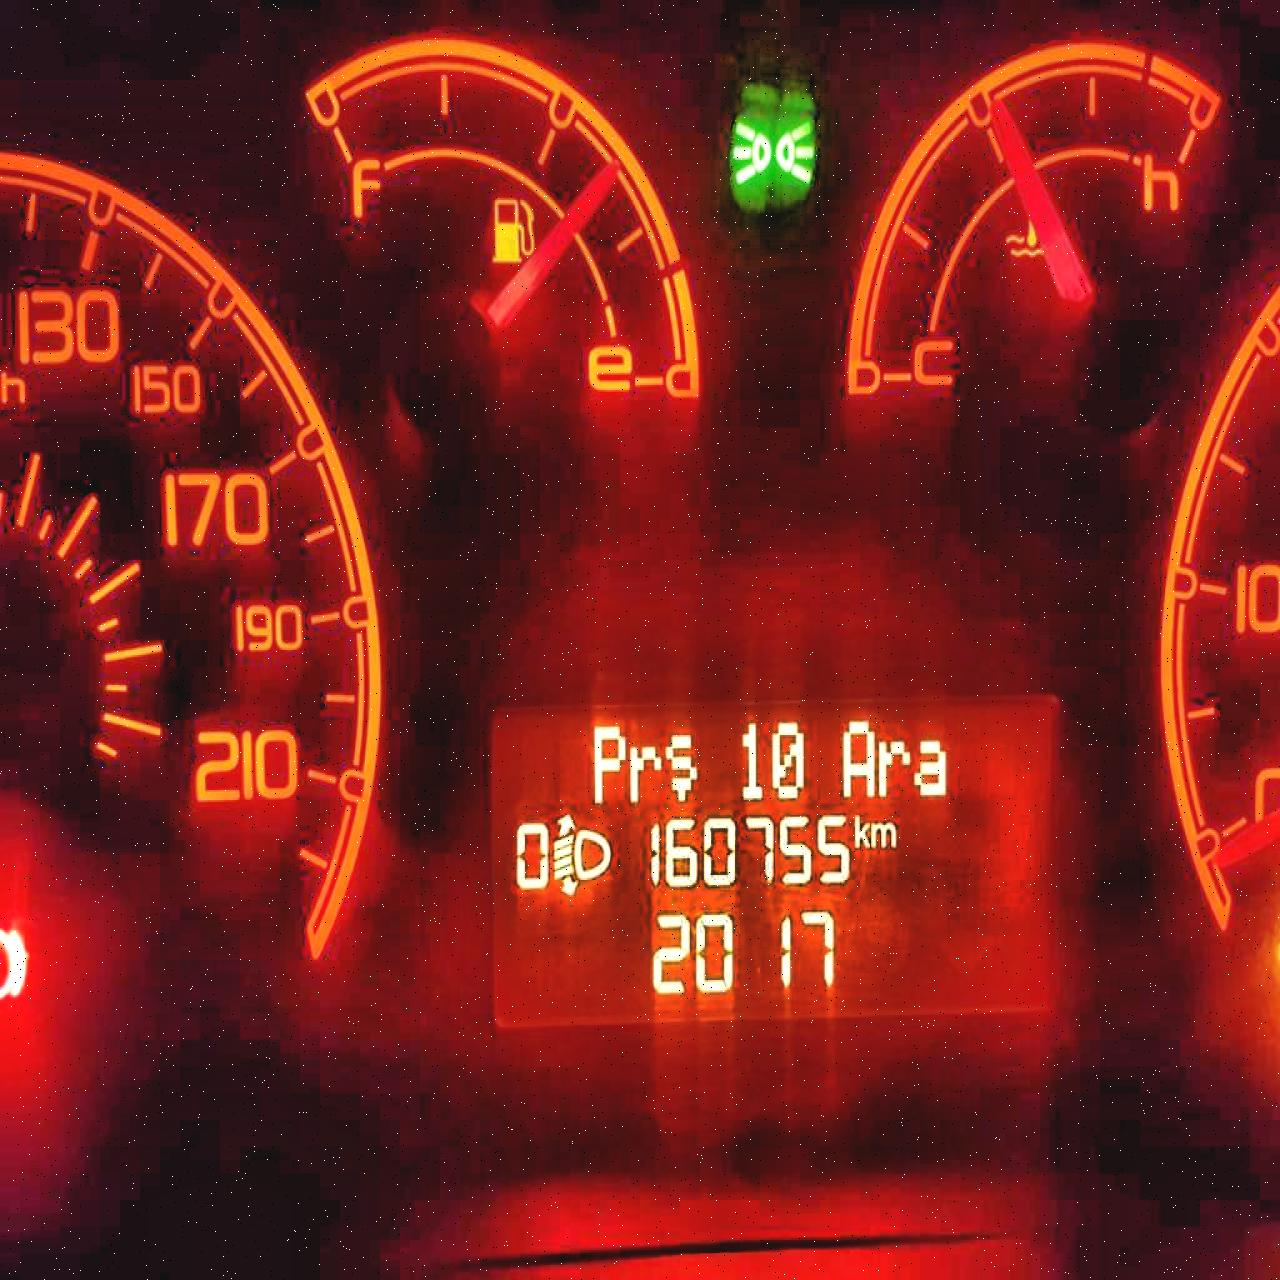0: (769, 715, 806, 803), (694, 913, 734, 994), (701, 816, 734, 887), (515, 822, 547, 888)
1: (738, 719, 763, 802), (779, 912, 795, 990), (648, 818, 660, 888)
2: (651, 912, 690, 993)
5: (816, 810, 850, 884), (778, 812, 811, 885)
6: (663, 813, 697, 887)
7: (799, 905, 835, 987), (743, 812, 775, 885)
X: (591, 720, 625, 805), (840, 716, 874, 798), (662, 731, 697, 803), (912, 735, 947, 798), (876, 734, 910, 795), (628, 742, 660, 803), (870, 818, 896, 849), (852, 810, 870, 849)
odometer: (486, 687, 1060, 1035)
